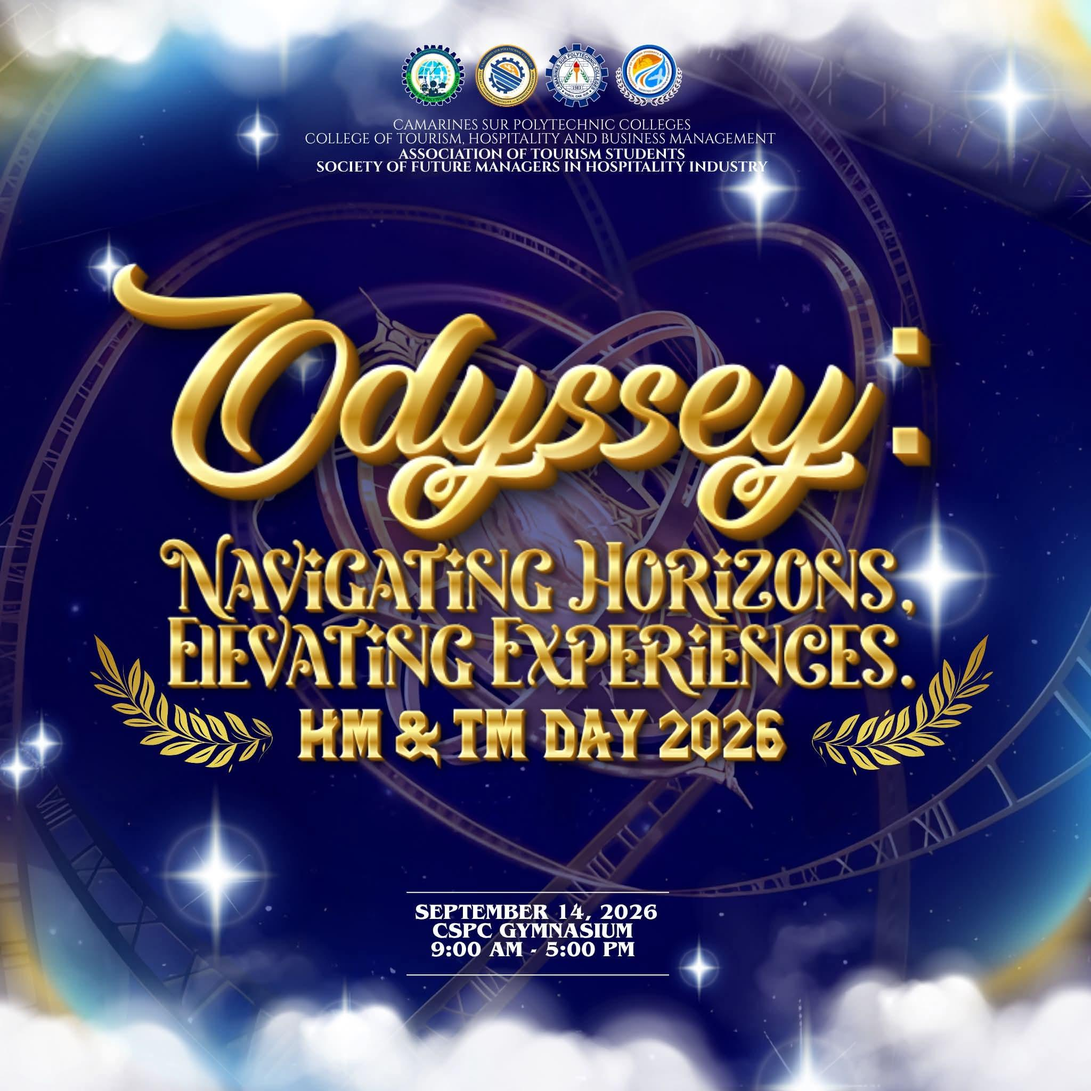embellishment: (800, 619, 1002, 782), (80, 621, 278, 777), (156, 802, 283, 957), (880, 493, 1001, 652), (954, 39, 1060, 169), (711, 129, 805, 248), (0, 712, 63, 803), (233, 104, 284, 168), (87, 237, 134, 298), (678, 937, 721, 996)
logo: (614, 39, 685, 108), (543, 40, 612, 110), (473, 40, 539, 111), (401, 42, 468, 110)
text: (103, 250, 950, 543), (153, 535, 925, 694), (286, 698, 793, 769), (300, 115, 781, 178), (413, 898, 663, 963)
